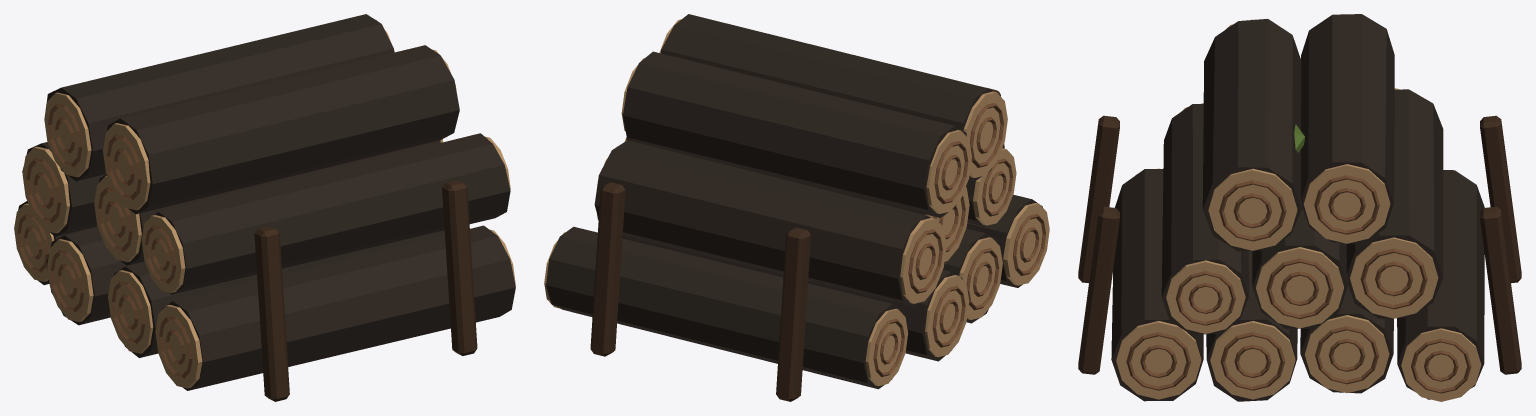
File: log_stack.glb
3 renders of one model, left to right at view 1: azimuth 30°, elevation 25°; view 2: azimuth 150°, elevation 25°; view 3: azimuth 270°, elevation 25°, orthographic.
Visible parts, largest first — view 1: LogStack; view 2: LogStack; view 3: LogStack.
Boxes of the visible parts, x1,y1,x2,y2 form: LogStack: (14,14,515,401); LogStack: (544,14,1049,401); LogStack: (1078,14,1521,401).
Size of the model in its own units: 1.15 by 0.7076 by 1.24.
